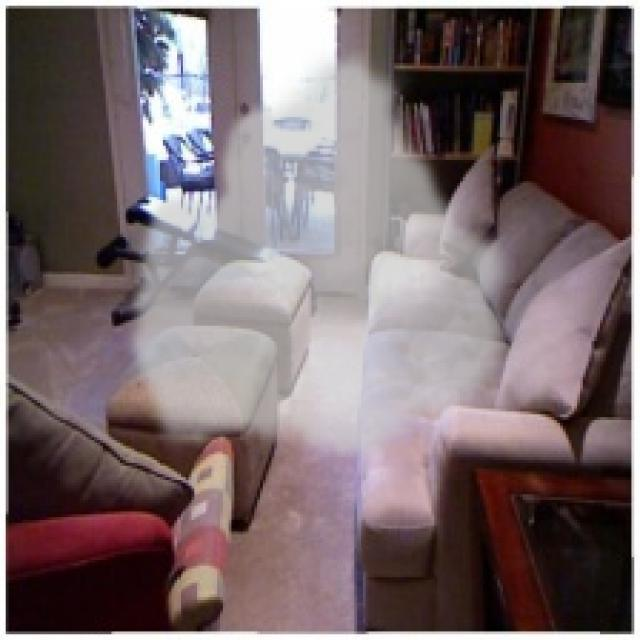Smoke: (123, 43, 520, 463)
